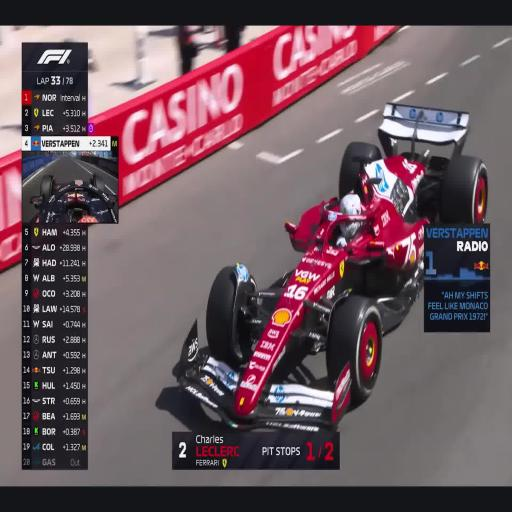f1_car: (179, 104, 487, 431), (30, 174, 118, 223)
